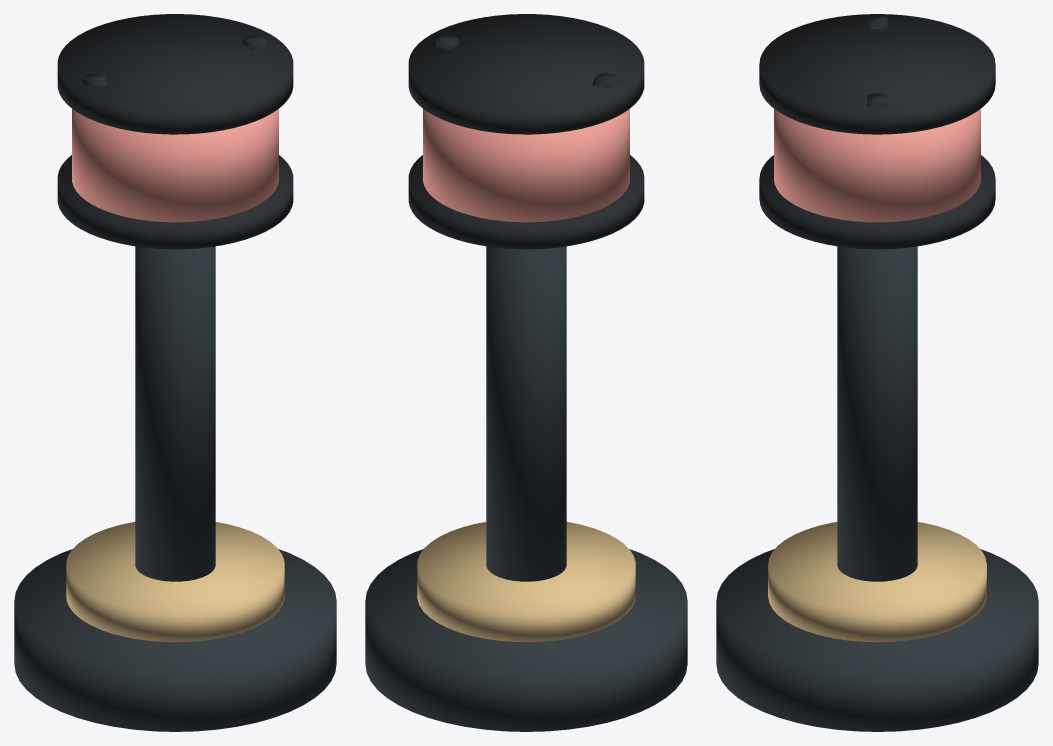
The model's file is room_l5_v4_warning_beacon_pylon.glb.
The picture shows the model from 3 angles, left to right: view 1: azimuth 30°, elevation 25°; view 2: azimuth 150°, elevation 25°; view 3: azimuth 270°, elevation 25°; orthographic projection.
Visible parts, largest first — view 1: black_weighted_base, dark_signal_mast, black_lens_cage_ring_top, brass_lower_collar, red_warning_lens, black_lens_cage_ring_bottom; view 2: black_weighted_base, dark_signal_mast, black_lens_cage_ring_top, brass_lower_collar, red_warning_lens, black_lens_cage_ring_bottom; view 3: black_weighted_base, dark_signal_mast, black_lens_cage_ring_top, brass_lower_collar, red_warning_lens, black_lens_cage_ring_bottom.
Boxes of the visible parts, bbox=[...] form: black_weighted_base: bbox=[14, 549, 336, 731]; dark_signal_mast: bbox=[135, 246, 215, 581]; black_lens_cage_ring_top: bbox=[57, 14, 293, 134]; brass_lower_collar: bbox=[66, 522, 284, 642]; red_warning_lens: bbox=[72, 109, 278, 222]; black_lens_cage_ring_bottom: bbox=[57, 155, 293, 249]; black_weighted_base: bbox=[365, 549, 687, 731]; dark_signal_mast: bbox=[486, 246, 566, 581]; black_lens_cage_ring_top: bbox=[408, 14, 644, 134]; brass_lower_collar: bbox=[417, 522, 635, 642]; red_warning_lens: bbox=[423, 109, 629, 222]; black_lens_cage_ring_bottom: bbox=[408, 155, 644, 249]; black_weighted_base: bbox=[716, 549, 1038, 731]; dark_signal_mast: bbox=[837, 246, 917, 581]; black_lens_cage_ring_top: bbox=[759, 14, 995, 134]; brass_lower_collar: bbox=[768, 522, 986, 642]; red_warning_lens: bbox=[774, 109, 980, 222]; black_lens_cage_ring_bottom: bbox=[759, 155, 995, 249].
Size of the model in its own units: 0.56 by 1.16 by 0.56.
